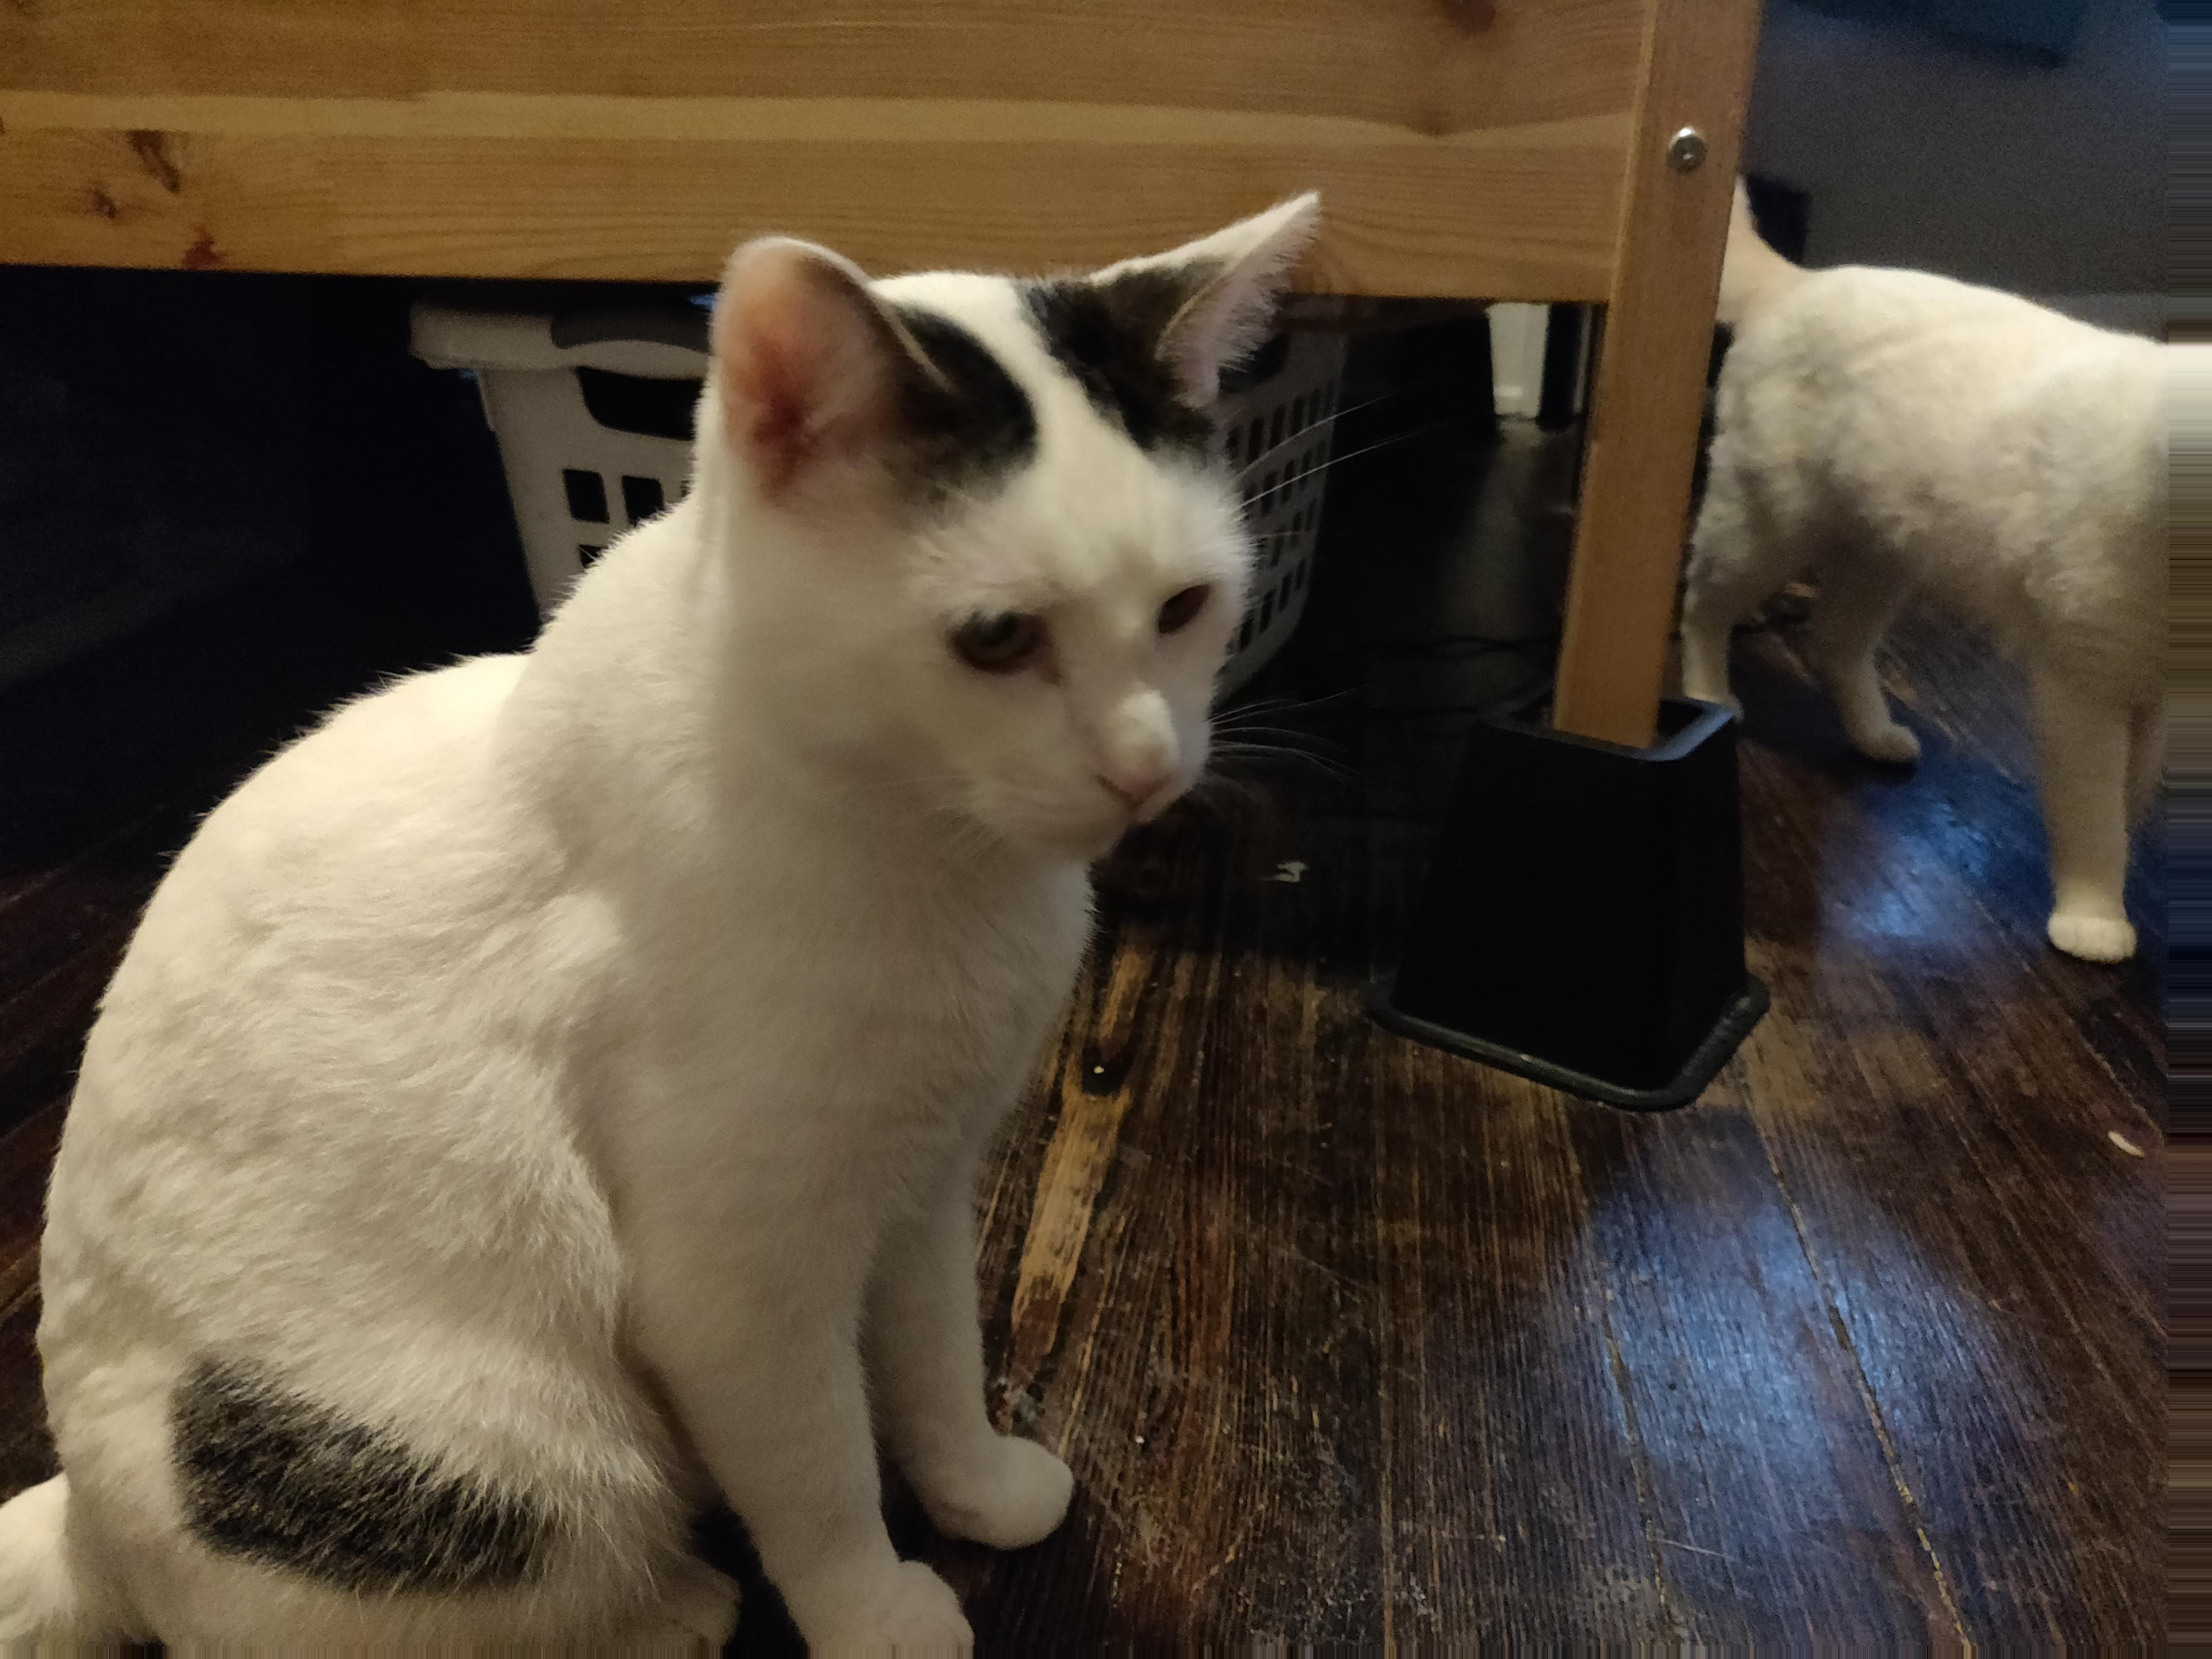cat: (0, 181, 1326, 1657), (1706, 138, 2212, 958)
